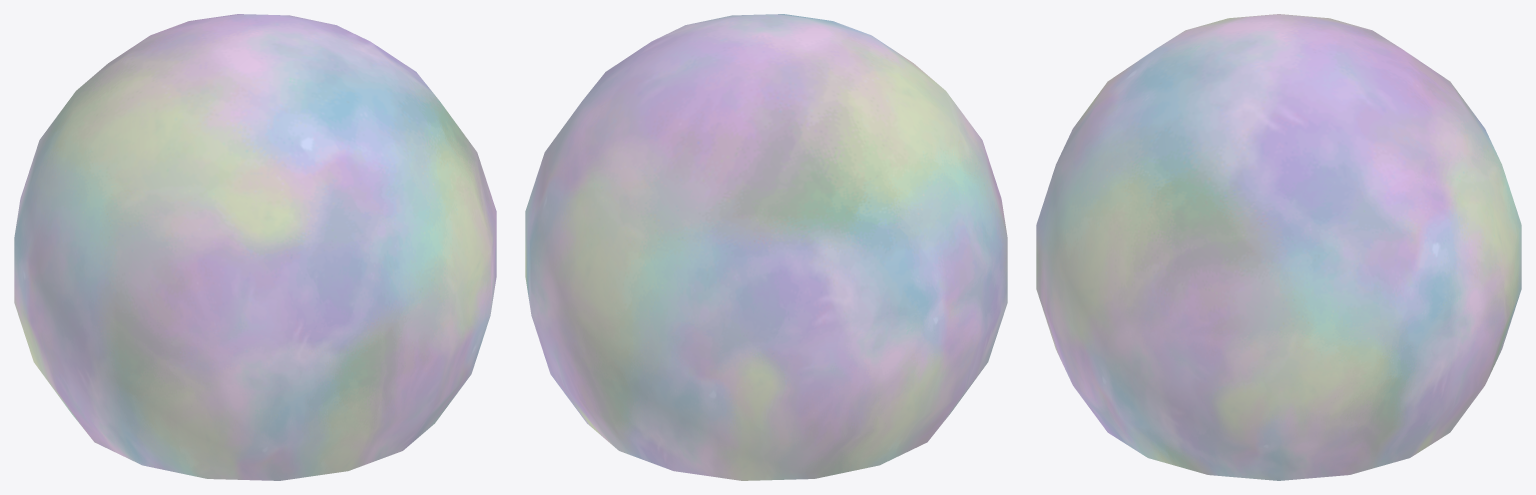
File: bubble_gp2.glb
3 renders of one model, left to right at view 1: azimuth 30°, elevation 25°; view 2: azimuth 150°, elevation 25°; view 3: azimuth 270°, elevation 25°, orthographic.
Visible parts, largest first — view 1: bubble.png__; view 2: bubble.png__; view 3: bubble.png__.
Boxes of the visible parts, x1,y1,x2,y2 form: bubble.png__: [14, 14, 496, 480]; bubble.png__: [525, 14, 1007, 480]; bubble.png__: [1036, 14, 1521, 480].
Size of the model in its own units: 7.59 by 6.35 by 7.59.
Materials: 1 (1 with a texture image).
